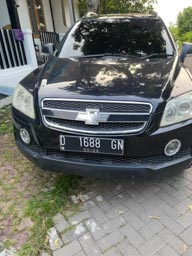plat: (58, 134, 125, 150)
